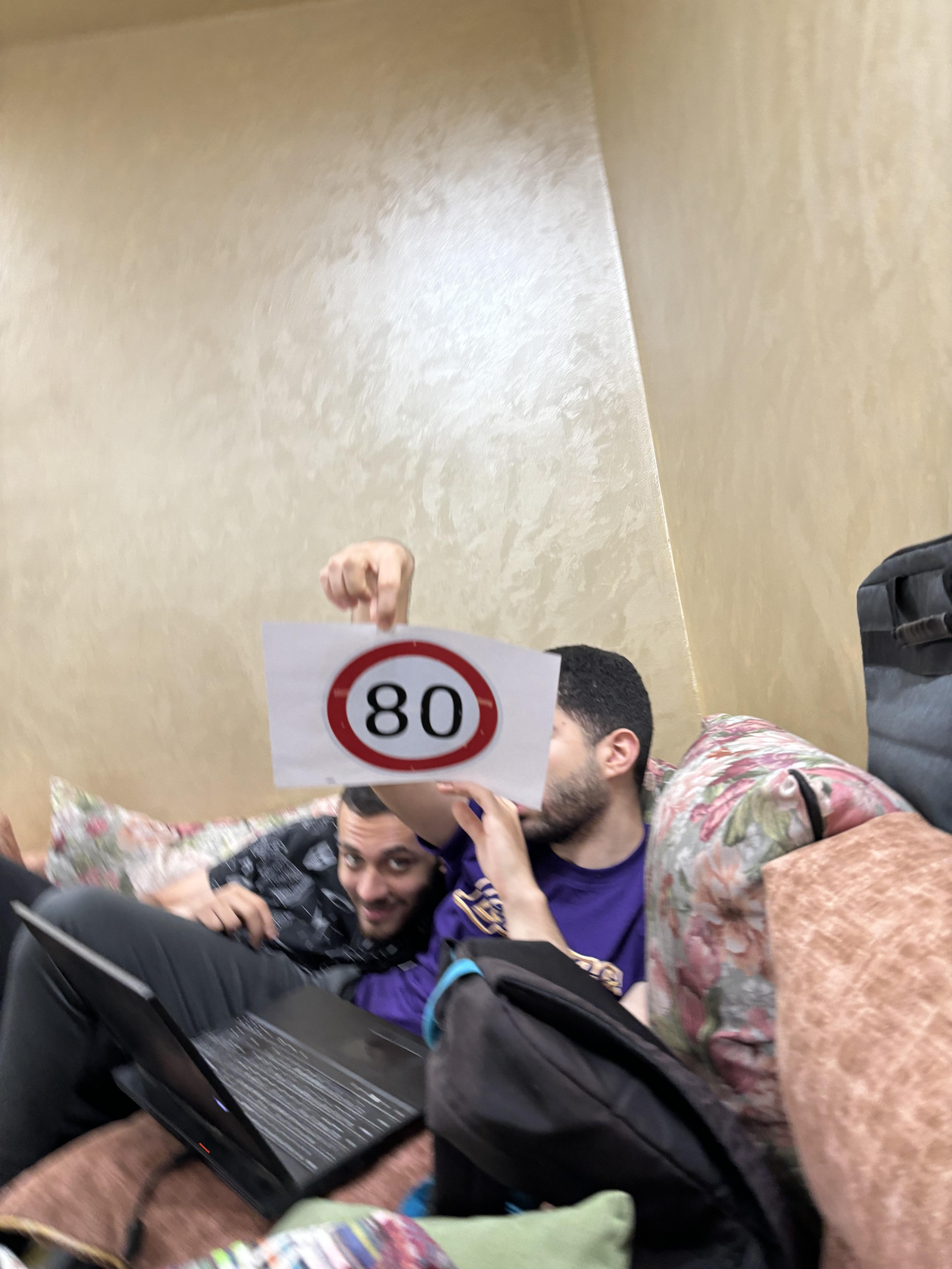80-Speed: (323, 625, 498, 783)
